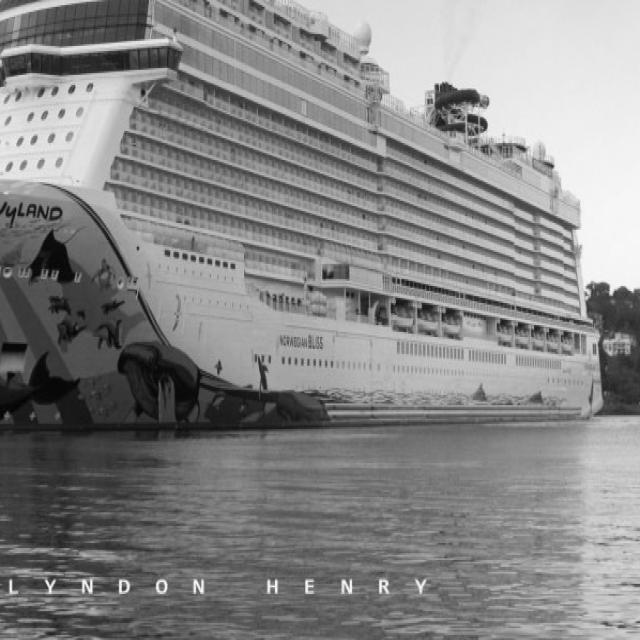cruises: (1, 1, 608, 452)
